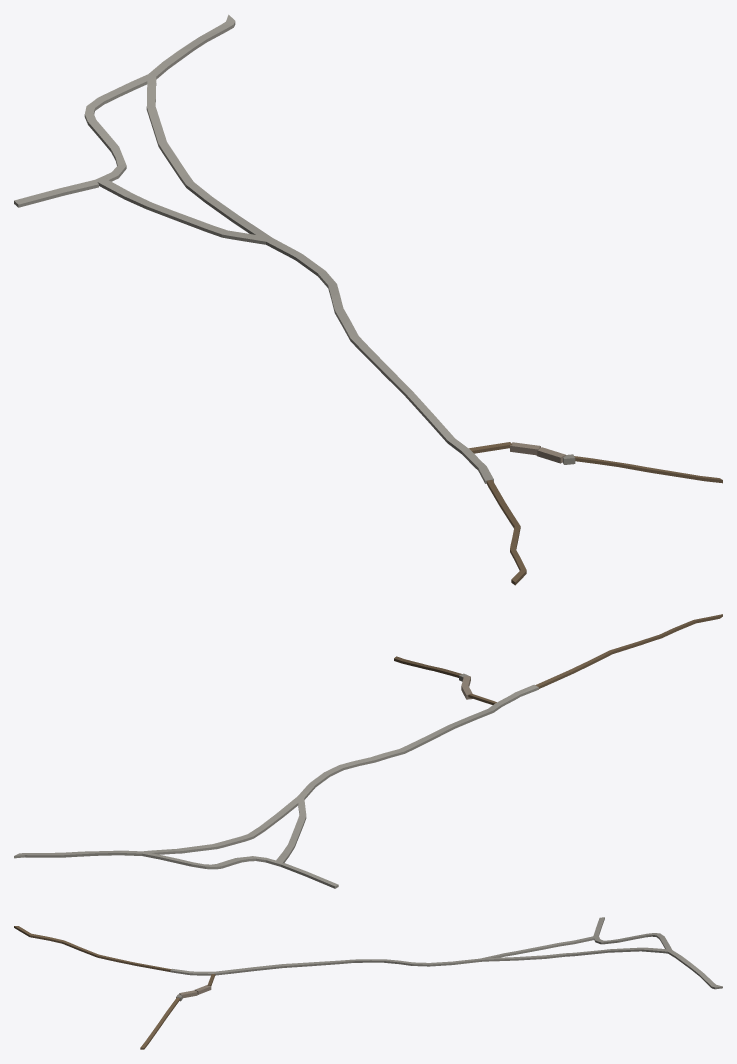
3 renders of one model, top to bottom at view 1: azimuth 30°, elevation 25°; view 2: azimuth 150°, elevation 25°; view 3: azimuth 270°, elevation 25°, orthographic. The views are drawn at different scales.
Size of the model in its own units: 73.43 by 24.57 by 243.
